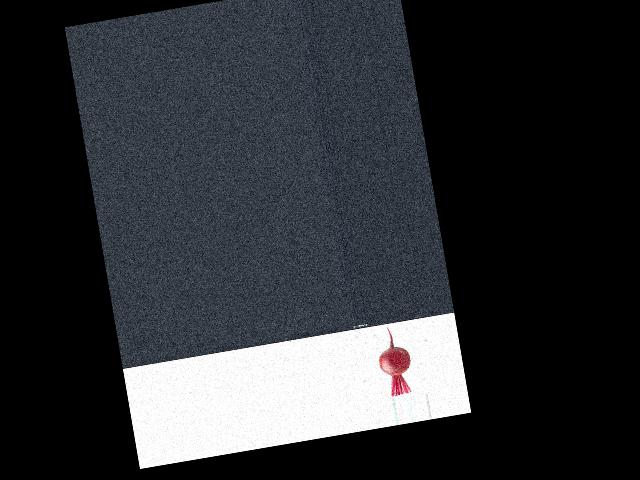beet: (373, 322, 416, 397)
